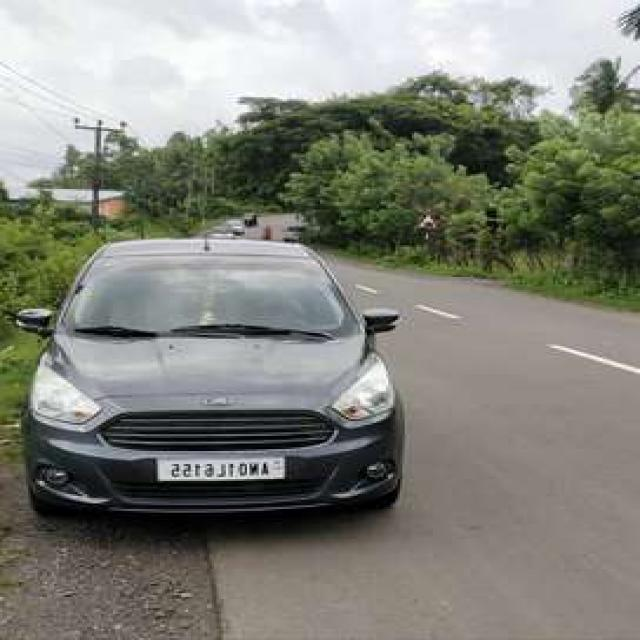license_plate: (146, 449, 295, 487)
